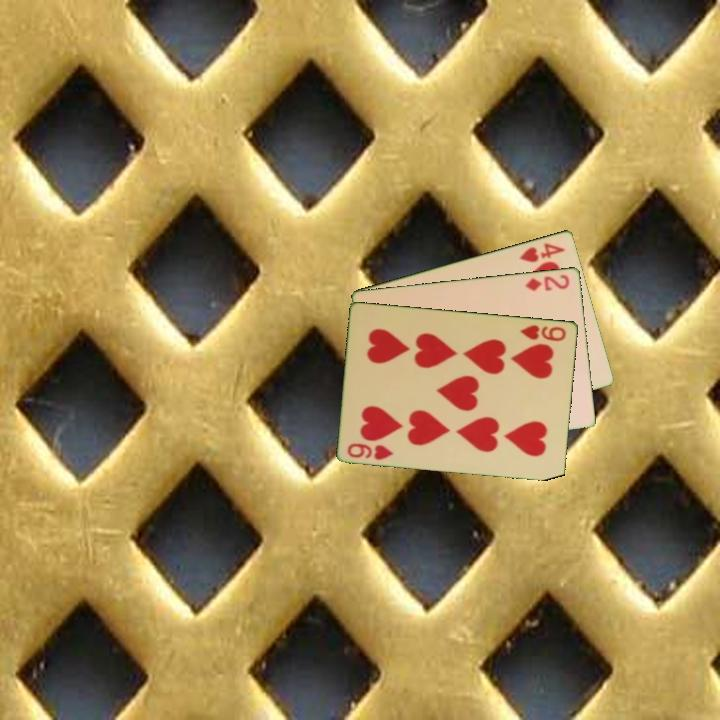2d: (522, 271, 573, 294)
4h: (516, 239, 568, 265)
9h: (344, 439, 396, 463), (517, 321, 569, 344)
